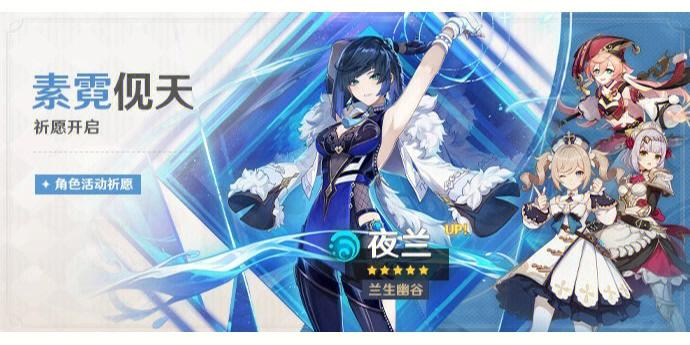夜兰: (292, 16, 487, 341)
